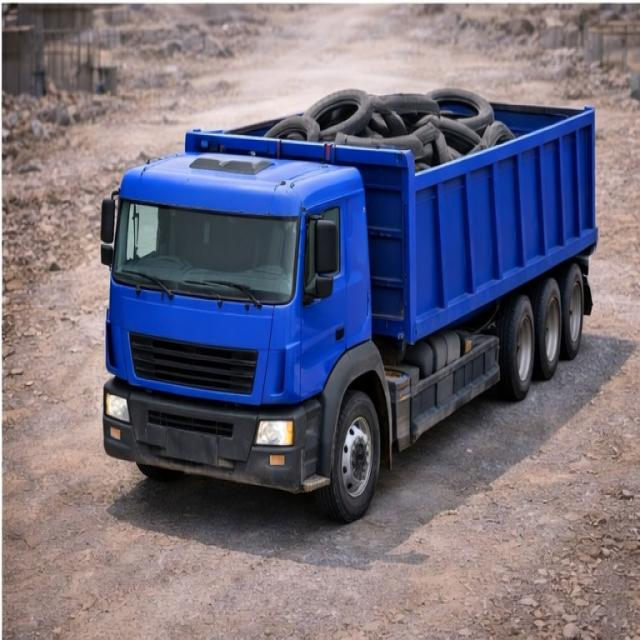Box: (177, 86, 600, 166)
Truck: (92, 66, 604, 520)
